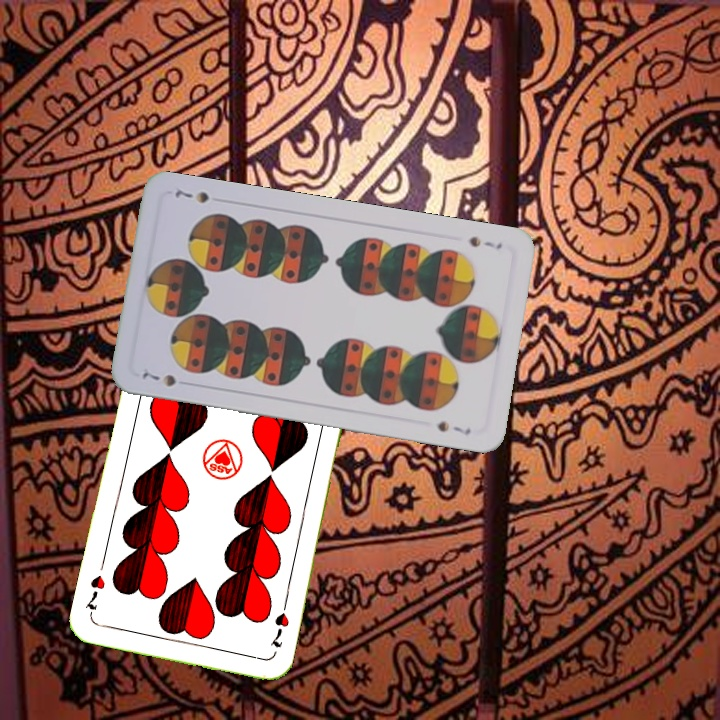H7: (266, 608, 292, 651)
S7: (138, 368, 179, 389), (465, 232, 505, 252)
